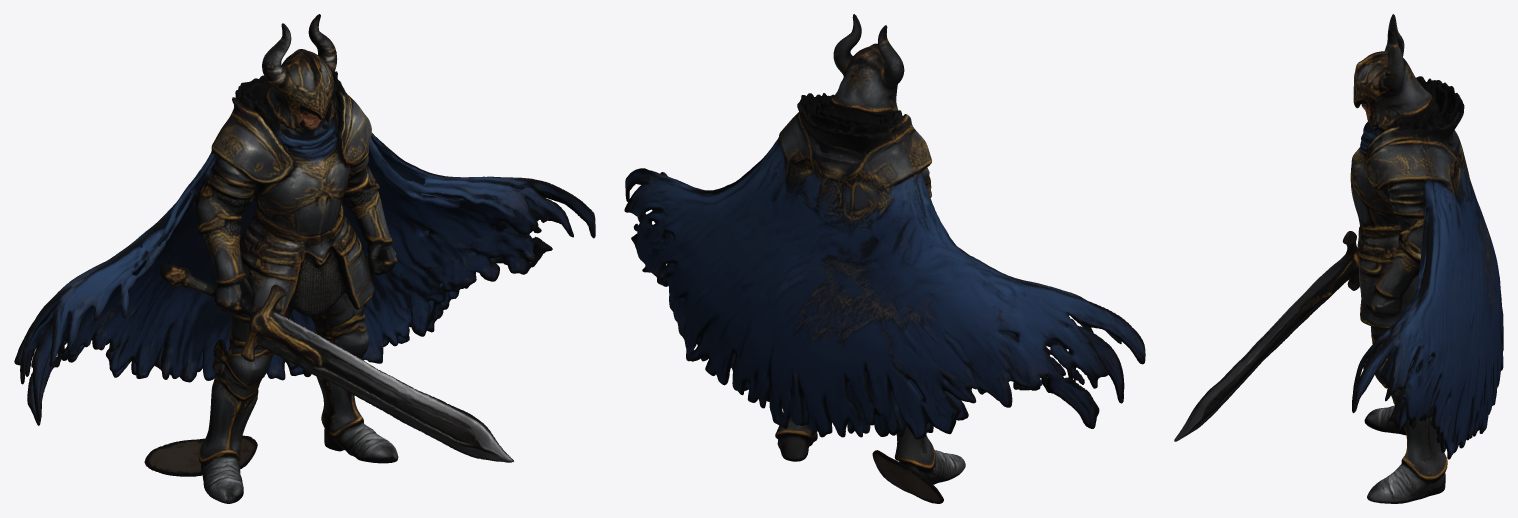
The model's file is Copilot3D-dark-knight-original-copy.glb.
3 views of the same model, side by side, from view 1: azimuth 30°, elevation 25°; view 2: azimuth 150°, elevation 25°; view 3: azimuth 270°, elevation 25° (orthographic). The views are drawn at different scales.
Visible parts, largest first — view 1: world; view 2: world; view 3: world.
Boxes of the visible parts, box(x1,y1,x2,y2) form: world: box(14, 14, 595, 503); world: box(624, 14, 1145, 503); world: box(1174, 14, 1503, 503).
Size of the model in its own units: 1 by 0.787 by 0.5281.
1 material, 1 textured.
